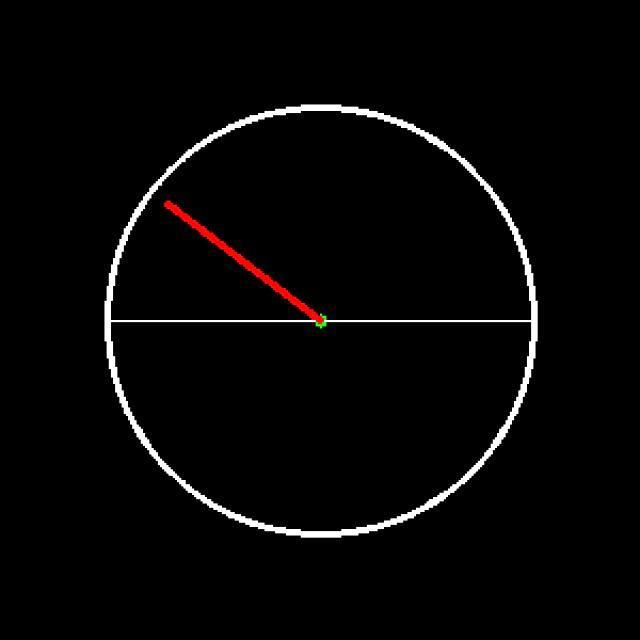Needle_Tip: (139, 187, 232, 232)
Needle_base: (303, 294, 333, 352)
